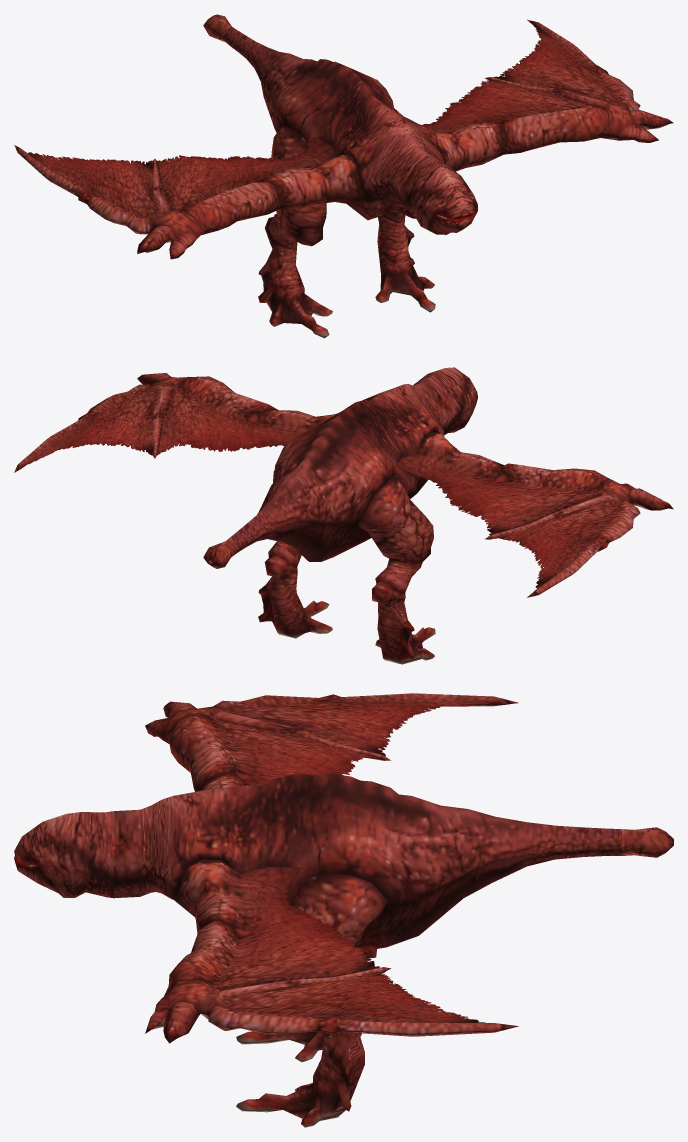
File: red-khezu.glb
The picture shows the model from 3 angles, top to bottom: view 1: azimuth 30°, elevation 25°; view 2: azimuth 150°, elevation 25°; view 3: azimuth 270°, elevation 25°; orthographic projection. The views are drawn at different scales.
Parts seen in each view (by area): view 1: em15-0001-10, em15-0001-8, em15-0001-4, em15-0001-5, em15-0001-9, em15-0001-2.001; view 2: em15-0001-10, em15-0001-8, em15-0001-4, em15-0001-5, em15-0001-9, em15-0001-2.001; view 3: em15-0001-10, em15-0001-8, em15-0001-4, em15-0001-5, em15-0001-9, em15-0001-2.001.
Boxes of the visible parts, x1=… form: em15-0001-10: x1=14, y1=19, x2=673, y2=259; em15-0001-8: x1=254, y1=47, x2=443, y2=220; em15-0001-4: x1=258, y1=108, x2=435, y2=338; em15-0001-5: x1=400, y1=155, x2=477, y2=234; em15-0001-9: x1=222, y1=26, x2=266, y2=67; em15-0001-2.001: x1=203, y1=14, x2=231, y2=45; em15-0001-10: x1=14, y1=373, x2=673, y2=597; em15-0001-8: x1=257, y1=379, x2=453, y2=561; em15-0001-4: x1=258, y1=470, x2=435, y2=664; em15-0001-5: x1=416, y1=367, x2=477, y2=435; em15-0001-9: x1=231, y1=505, x2=279, y2=556; em15-0001-2.001: x1=203, y1=537, x2=238, y2=568; em15-0001-10: x1=145, y1=693, x2=518, y2=1043; em15-0001-8: x1=113, y1=772, x2=526, y2=951; em15-0001-4: x1=236, y1=874, x2=387, y2=1127; em15-0001-5: x1=14, y1=811, x2=114, y2=897; em15-0001-9: x1=527, y1=822, x2=622, y2=866; em15-0001-2.001: x1=621, y1=827, x2=673, y2=857.
Bounding box in the file's own units: 1050 × 444 × 865.
3 materials, 3 textured.
